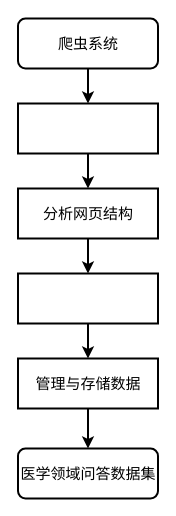
Some shapes in this 176 by 516 pixel diagram are drawn without their labels. The shapes that lost their labels are listed below. From the top down, each one's box as (x1, y1, x2, y2) in pixels, then its label:
(16, 102, 158, 154): 构建爬虫框架
(16, 272, 158, 324): 设计爬虫程序
